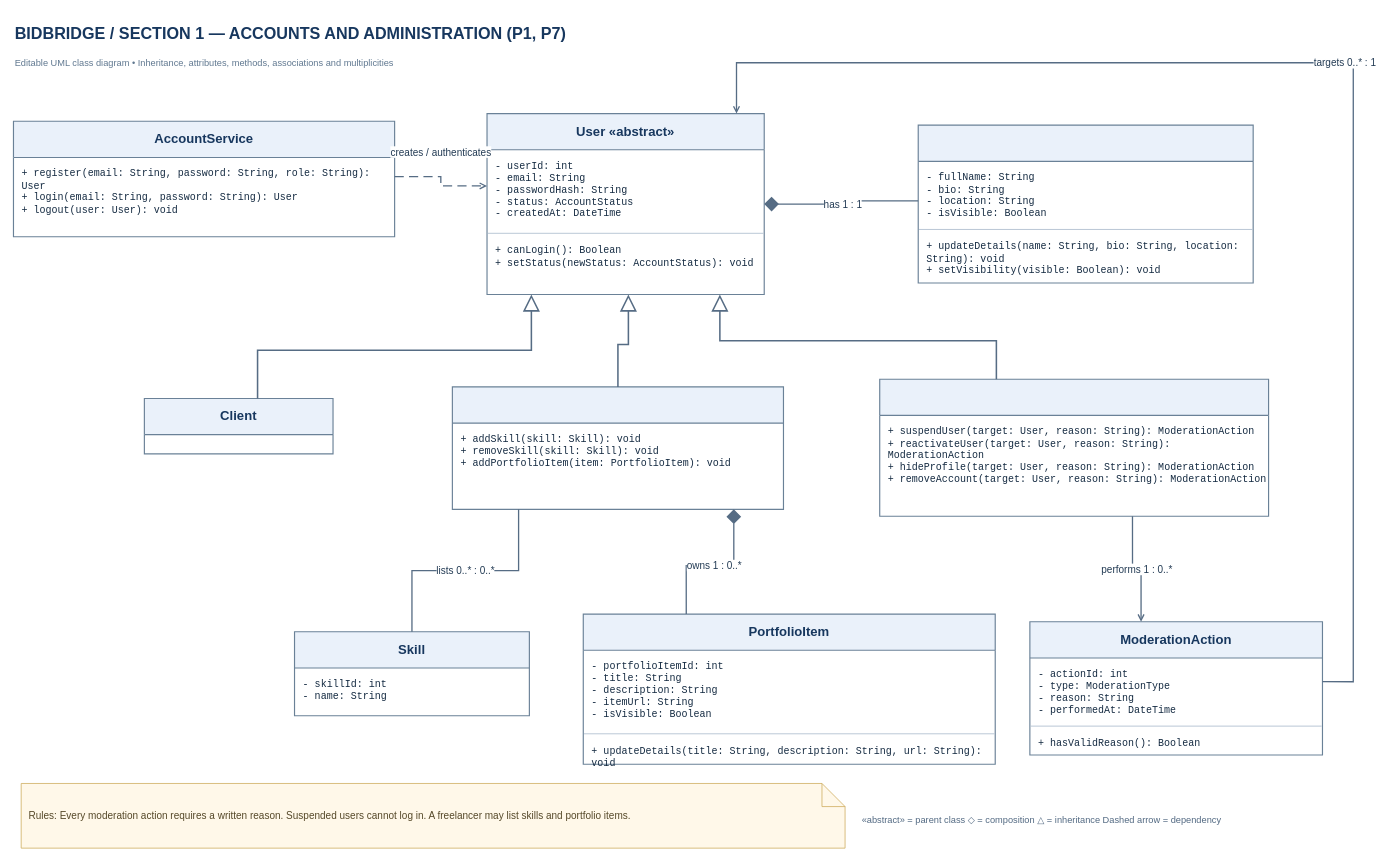
Image size: 1390x862. Some labels were removed from this diagram. Here are the shapes that lost their labels. From the top down, the box of each, then its label:
(917, 124, 1253, 283): UserProfile
(451, 386, 784, 510): Freelancer
(879, 378, 1269, 517): Administrator
